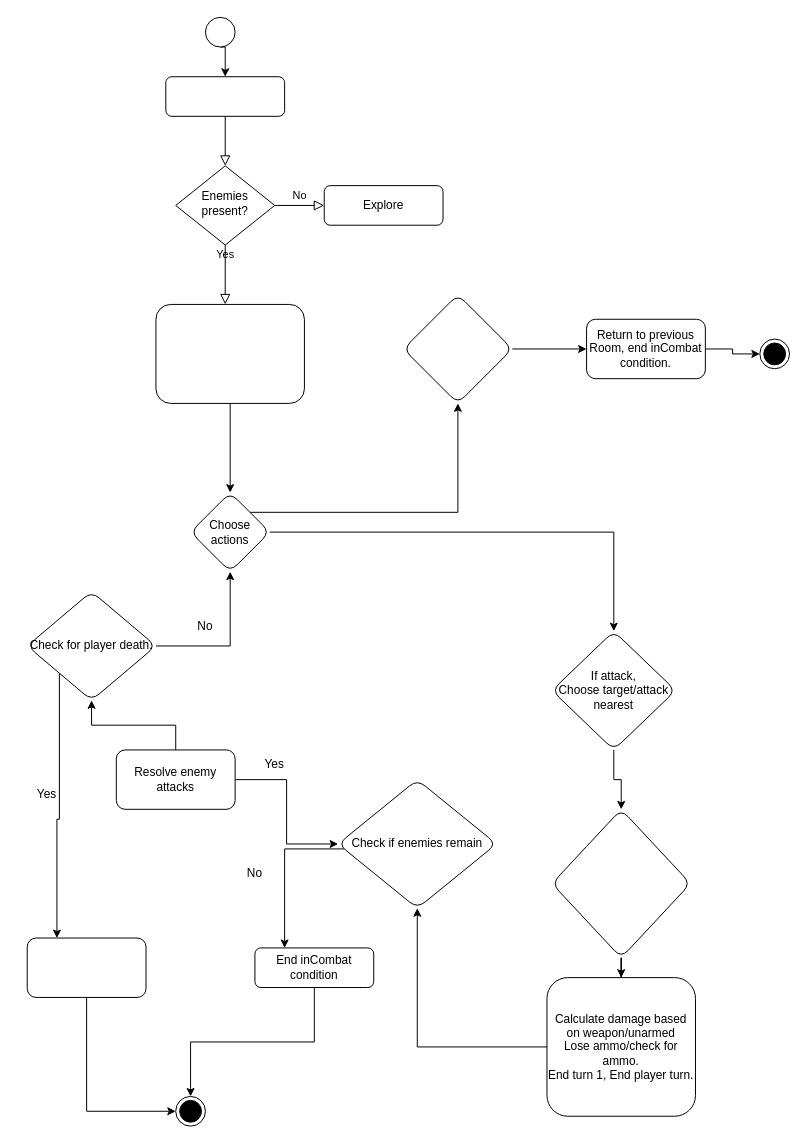
This 807x1143 diagram has some shape labels left out. Here are the shapes that lost their labels. From the top down, the box of each, then its label:
(165, 76, 285, 116): Player Enters New Room
(155, 303, 304, 403): List enemies in room. Conditions triggered: inCombat turn1 playerTurn
(402, 294, 512, 403): If not turn1, may flee.
(551, 808, 691, 958): Confirm target
(26, 937, 146, 997): Game over,
